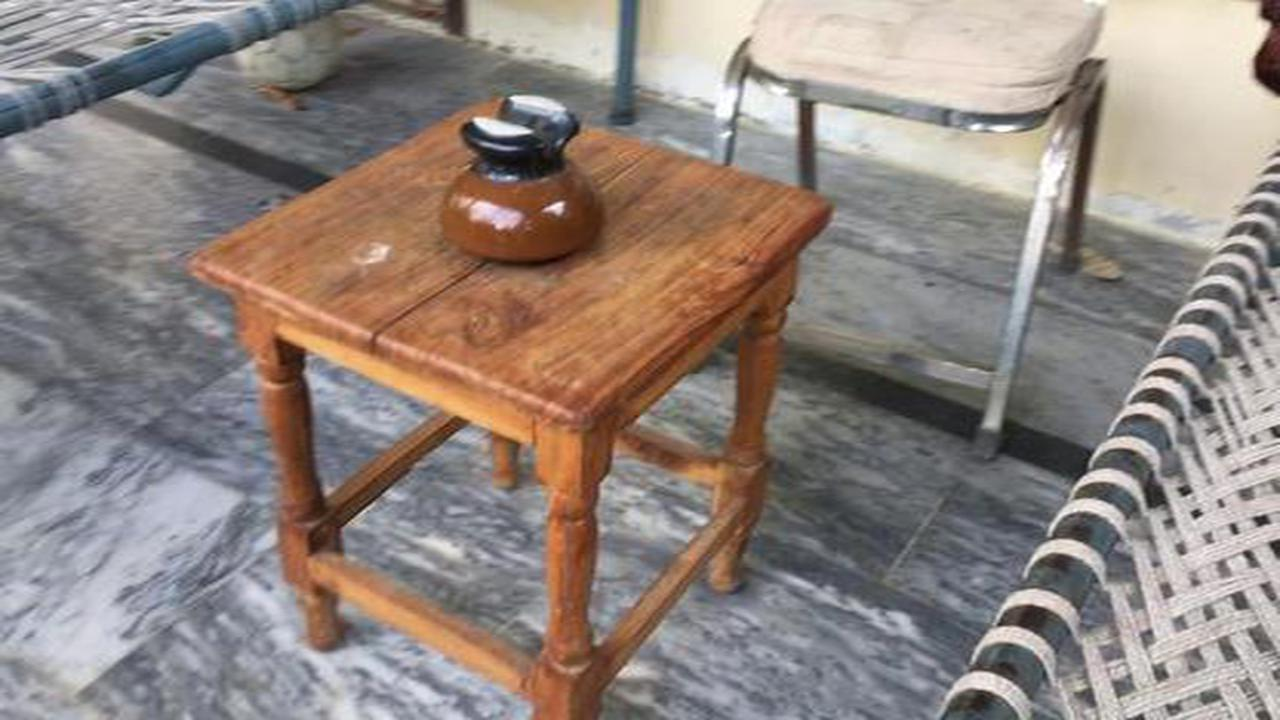insulator_pin: (428, 80, 625, 274)
